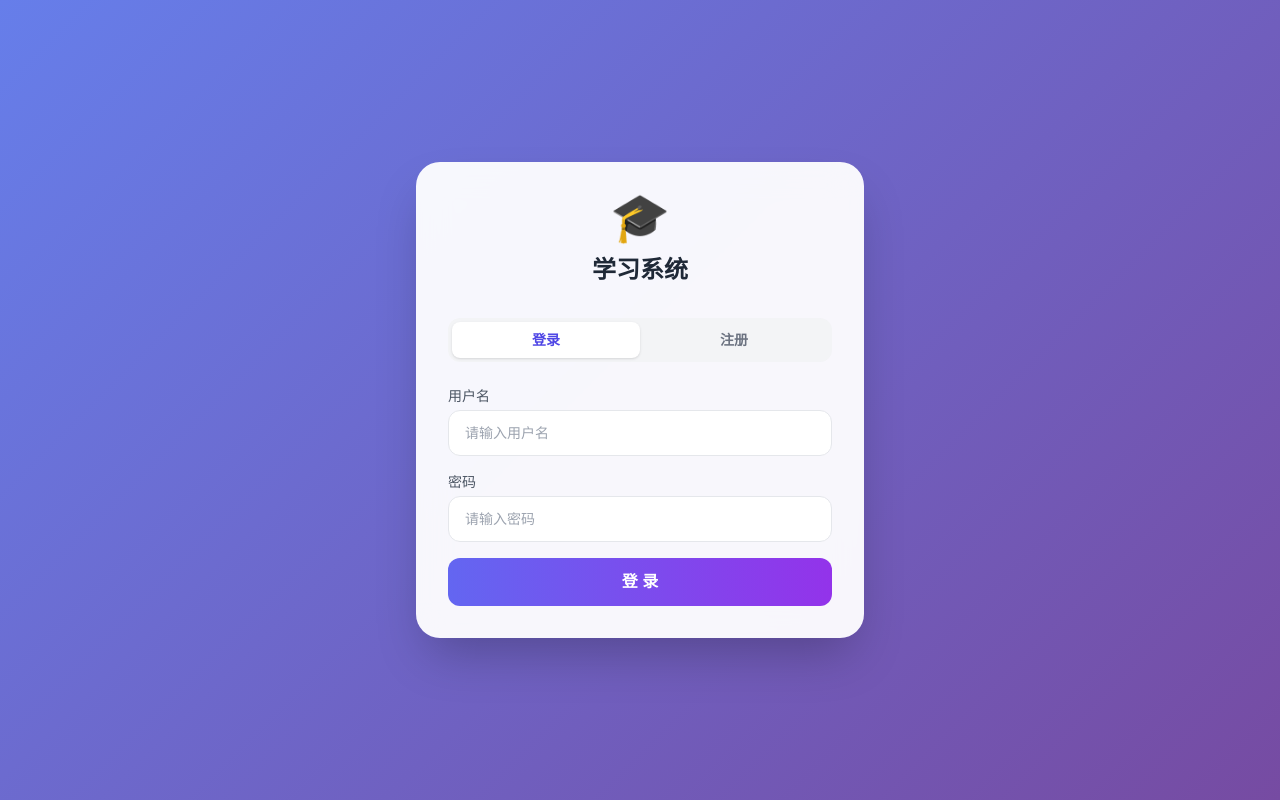
Test: Login 页面测试 › 2. 切换到注册 Tab 显示注册表单
Click the button "注册" at (734, 340), box 640,322 -> 828,358
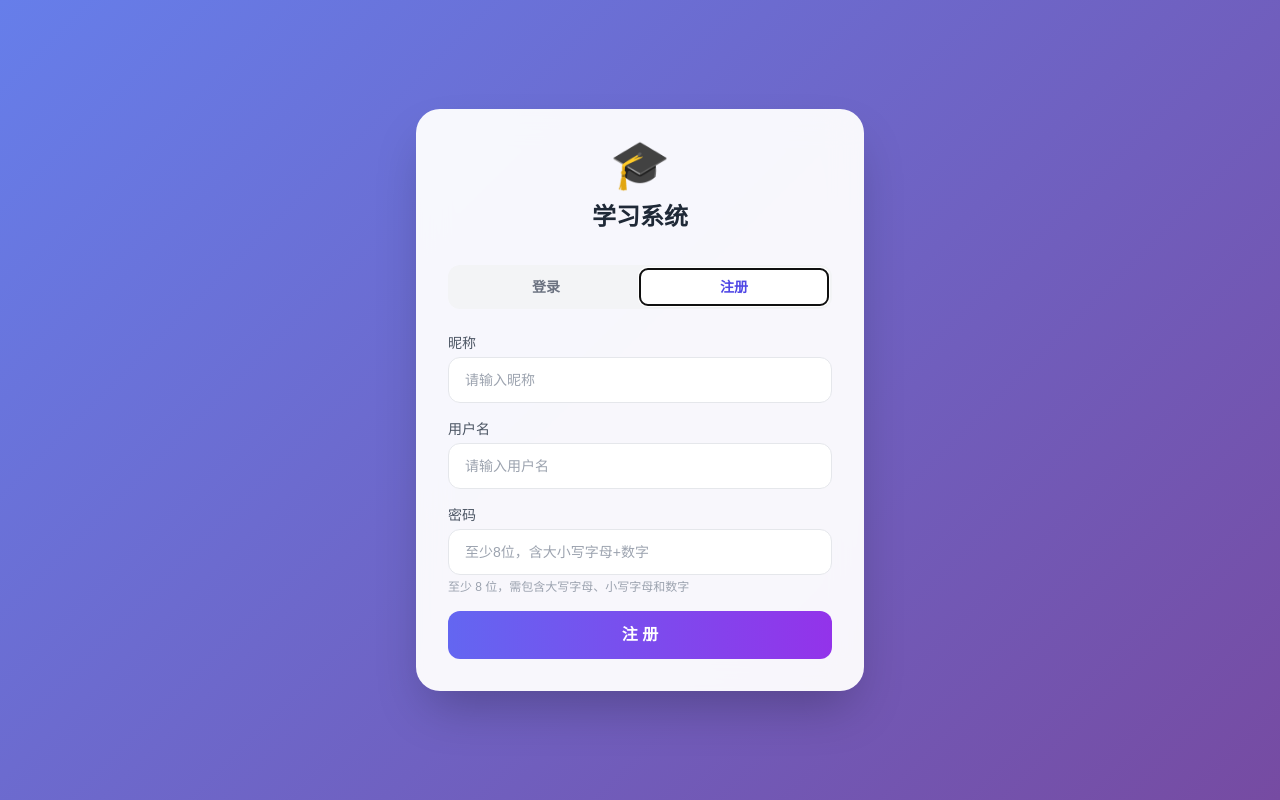
Expected: the text "昵称" is shown, 448,335 -> 476,351
